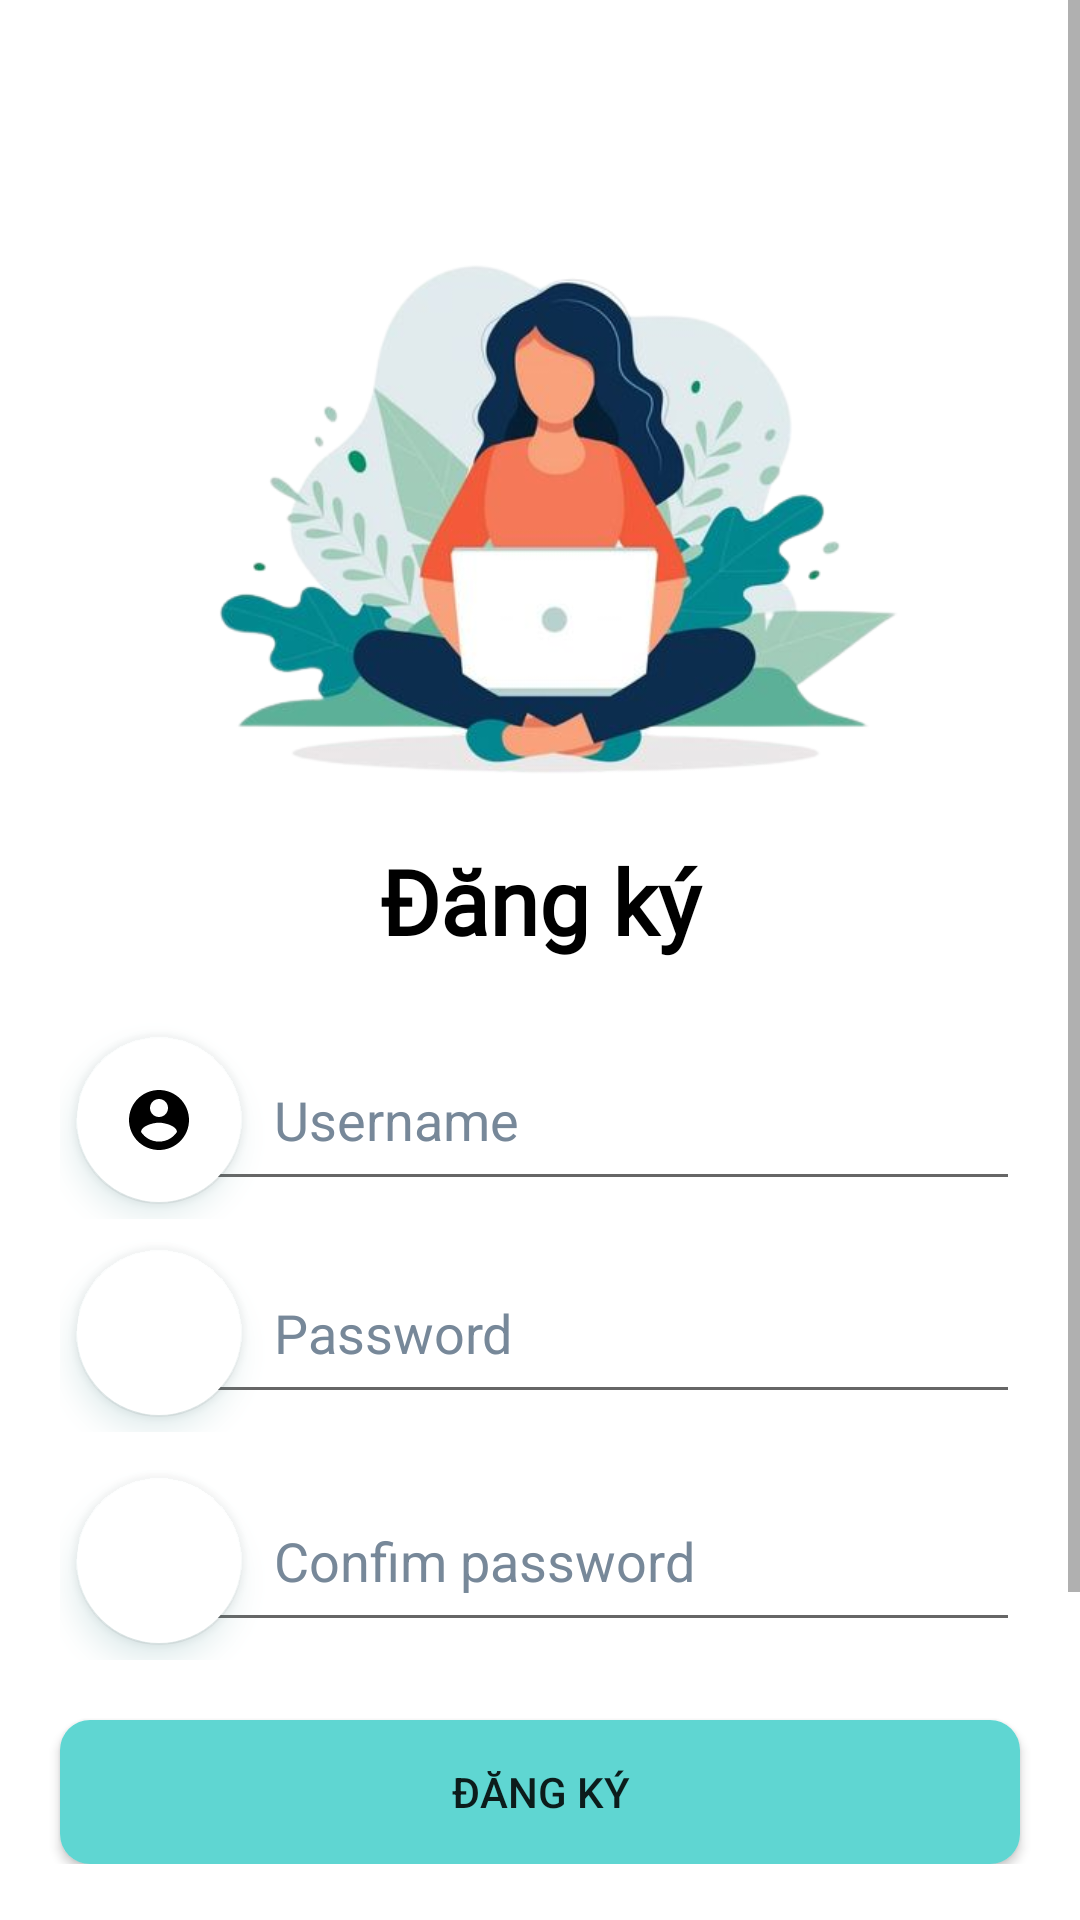

Screen size 1080px×1920px. Icon name, then its center in pixels as [x,y]:
account circle: [181,1124]
